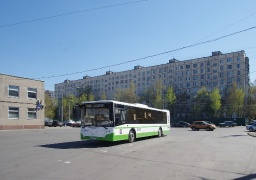bus: (77, 97, 172, 146)
car: (190, 119, 216, 132)
